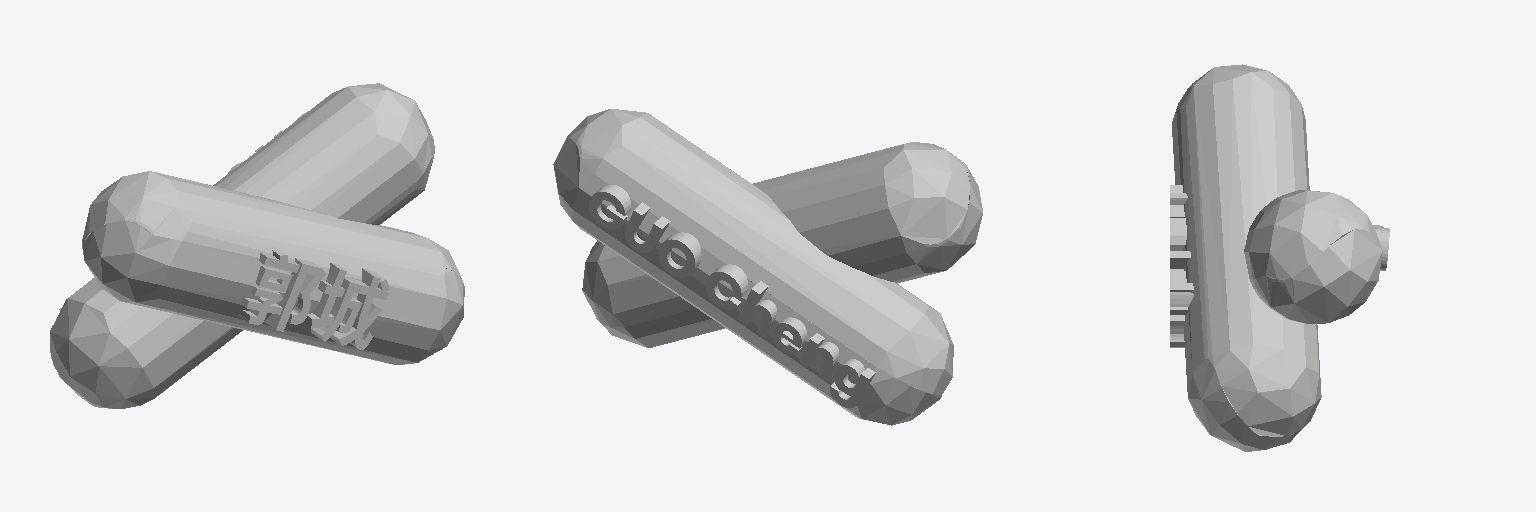
File: GuoCheng.obj
3 views of the same model, side by side, from view 1: azimuth 30°, elevation 25°; view 2: azimuth 150°, elevation 25°; view 3: azimuth 270°, elevation 25° (orthographic).
Visible parts, largest first — view 1: root_3, root_2, node_id269; view 2: root_2, root_3, node_id280; view 3: root_3, root_2, node_id269.
Part boxes in pixels (x1,y1,x2,y2): root_3: (82, 171, 464, 364); root_2: (50, 83, 434, 408); node_id269: (238, 249, 388, 349); root_2: (553, 109, 953, 425); root_3: (582, 142, 982, 347); node_id280: (589, 185, 875, 407); root_3: (1172, 64, 1321, 451); root_2: (1244, 190, 1382, 323); node_id269: (1170, 185, 1193, 347).
Bounding box in the file's own units: 0.289 × 0.1836 × 0.1459.